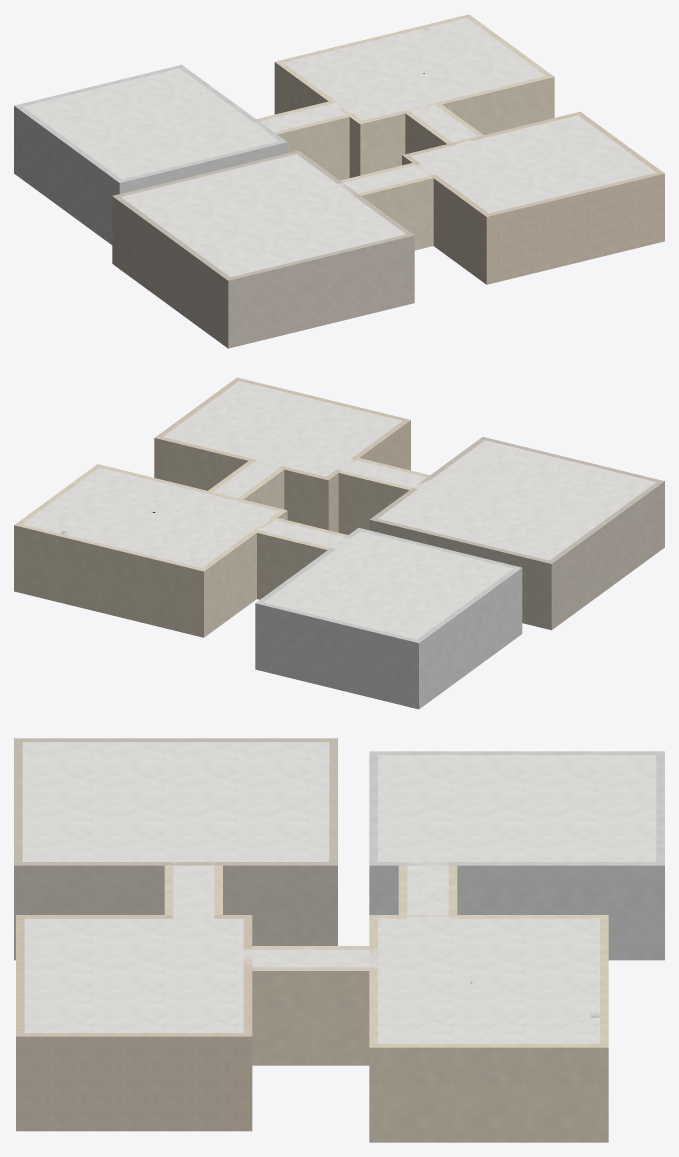
Rendered from Level2_House_Structure.fbx.
The picture shows the model from 3 angles, top to bottom: view 1: azimuth 30°, elevation 25°; view 2: azimuth 150°, elevation 25°; view 3: azimuth 270°, elevation 25°; orthographic projection. The views are drawn at different scales.
Visible parts, largest first — view 1: LIV_Walls_LivingRoom, LIV_Ceiling_LivingRoom, BED_Walls_Bedroom, STU_Ceiling_StudyRoom, KIT_Ceiling_Kitchen, BED_Ceiling_Bedroom, STU_Walls_StudyRoom, HALL_Walls_Hallway_C, KIT_Walls_Kitchen, HALL_Walls_Hallway_B, HALL_Walls_Hallway_A, HALL_Ceiling_Hallway_C (+2 smaller); view 2: STU_Walls_StudyRoom, KIT_Walls_Kitchen, LIV_Ceiling_LivingRoom, STU_Ceiling_StudyRoom, KIT_Ceiling_Kitchen, LIV_Walls_LivingRoom, BED_Ceiling_Bedroom, HALL_Walls_Hallway_C, BED_Walls_Bedroom, HALL_Walls_Hallway_B, HALL_Walls_Hallway_A, HALL_Ceiling_Hallway_A (+2 smaller); view 3: LIV_Ceiling_LivingRoom, STU_Ceiling_StudyRoom, KIT_Ceiling_Kitchen, KIT_Walls_Kitchen, BED_Walls_Bedroom, BED_Ceiling_Bedroom, LIV_Walls_LivingRoom, STU_Walls_StudyRoom, HALL_Walls_Hallway_C, HALL_Ceiling_Hallway_C, HALL_Ceiling_Hallway_B, HALL_Ceiling_Hallway_A (+2 smaller).
Boxes of the visible parts, box(x1,y1,x2,y2) form: LIV_Walls_LivingRoom: box(112, 150, 414, 348); LIV_Ceiling_LivingRoom: box(121, 154, 405, 277); BED_Walls_Bedroom: box(402, 111, 664, 284); STU_Ceiling_StudyRoom: box(23, 68, 278, 179); KIT_Ceiling_Kitchen: box(283, 18, 545, 120); BED_Ceiling_Bedroom: box(411, 115, 655, 213); STU_Walls_StudyRoom: box(14, 64, 287, 244); HALL_Walls_Hallway_C: box(360, 77, 554, 175); KIT_Walls_Kitchen: box(274, 14, 554, 177); HALL_Walls_Hallway_B: box(340, 163, 433, 250); HALL_Walls_Hallway_A: box(256, 101, 349, 180); HALL_Ceiling_Hallway_C: box(411, 106, 478, 142); STU_Walls_StudyRoom: box(255, 527, 522, 709); KIT_Walls_Kitchen: box(14, 464, 287, 637); LIV_Ceiling_LivingRoom: box(378, 440, 656, 560); STU_Ceiling_StudyRoom: box(264, 531, 513, 639); KIT_Ceiling_Kitchen: box(22, 467, 278, 567); LIV_Walls_LivingRoom: box(369, 437, 664, 630); BED_Ceiling_Bedroom: box(163, 381, 402, 476); HALL_Walls_Hallway_C: box(154, 438, 328, 530); BED_Walls_Bedroom: box(154, 377, 410, 532); HALL_Walls_Hallway_B: box(338, 458, 429, 534); HALL_Walls_Hallway_A: box(257, 518, 347, 599); HALL_Ceiling_Hallway_A: box(260, 520, 344, 547); LIV_Ceiling_LivingRoom: box(22, 742, 329, 865); STU_Ceiling_StudyRoom: box(378, 755, 656, 865); KIT_Ceiling_Kitchen: box(369, 915, 599, 1043); KIT_Walls_Kitchen: box(369, 915, 608, 1142); BED_Walls_Bedroom: box(16, 915, 252, 1131); BED_Ceiling_Bedroom: box(24, 915, 252, 1032); LIV_Walls_LivingRoom: box(14, 738, 337, 960); STU_Walls_StudyRoom: box(369, 751, 664, 960); HALL_Walls_Hallway_C: box(252, 946, 369, 1065); HALL_Ceiling_Hallway_C: box(252, 949, 369, 967); HALL_Ceiling_Hallway_B: box(173, 865, 214, 914); HALL_Ceiling_Hallway_A: box(407, 865, 448, 914).
Size of the model in its own units: 20.3 by 2.9 by 18.06.
